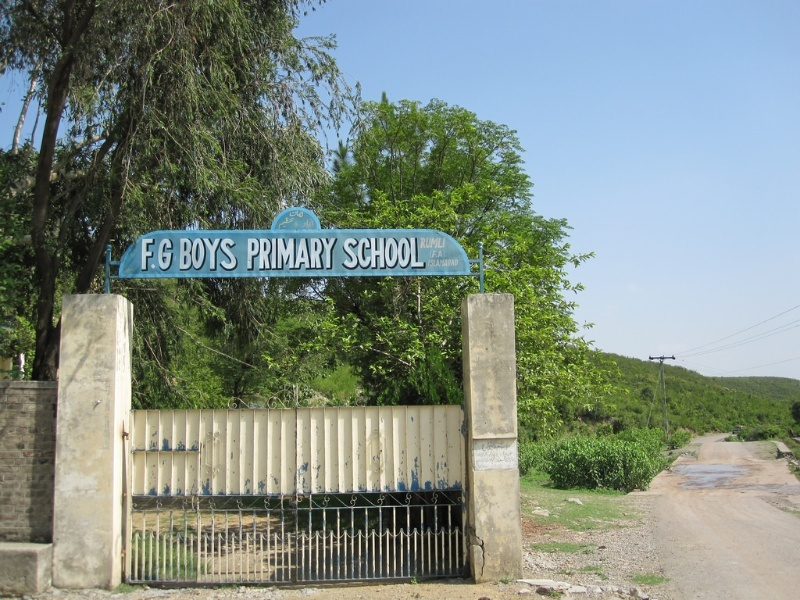text: (257, 237, 272, 272), (273, 237, 288, 272), (289, 237, 304, 272), (305, 237, 320, 272), (321, 237, 336, 272), (145, 238, 160, 272), (193, 237, 208, 271), (209, 237, 224, 271), (353, 237, 368, 269), (369, 237, 384, 269), (385, 237, 400, 269), (401, 237, 416, 269), (225, 237, 238, 271), (161, 238, 173, 272), (180, 237, 192, 271), (247, 237, 256, 272), (343, 237, 352, 269), (417, 237, 426, 269), (275, 213, 288, 231), (433, 237, 447, 249), (290, 208, 304, 219), (305, 218, 318, 229), (433, 259, 448, 268), (421, 237, 432, 249), (433, 250, 447, 259), (289, 213, 295, 231), (141, 238, 144, 272), (449, 259, 460, 268), (300, 218, 304, 229), (428, 259, 432, 268), (337, 237, 338, 272), (429, 250, 432, 259), (305, 208, 306, 219)
